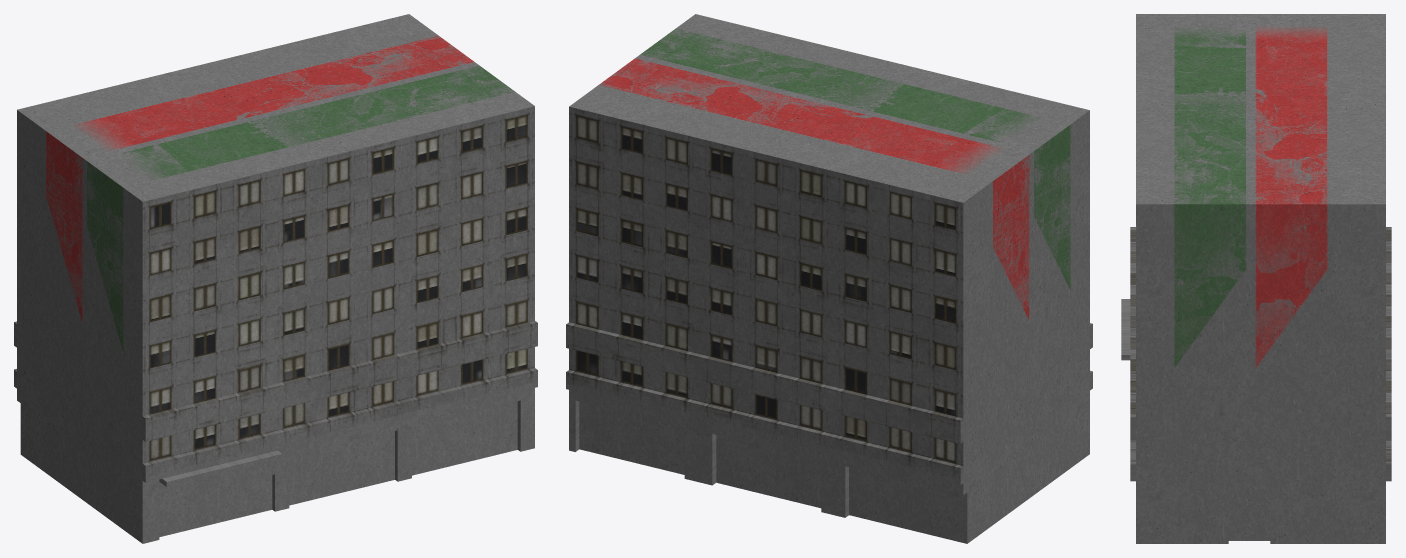
Rendered from innerBuilding3-1.fbx.
3 views of the same model, side by side, from view 1: azimuth 30°, elevation 25°; view 2: azimuth 150°, elevation 25°; view 3: azimuth 270°, elevation 25° (orthographic).
Visible parts, largest first — view 1: innerBuilding3; view 2: innerBuilding3; view 3: innerBuilding3.
Boxes of the visible parts, x1,y1,x2,y2 form: innerBuilding3: (14,14,537,543); innerBuilding3: (566,14,1092,543); innerBuilding3: (1121,14,1391,543).
Size of the model in its own units: 4495 by 3746 by 2701.
